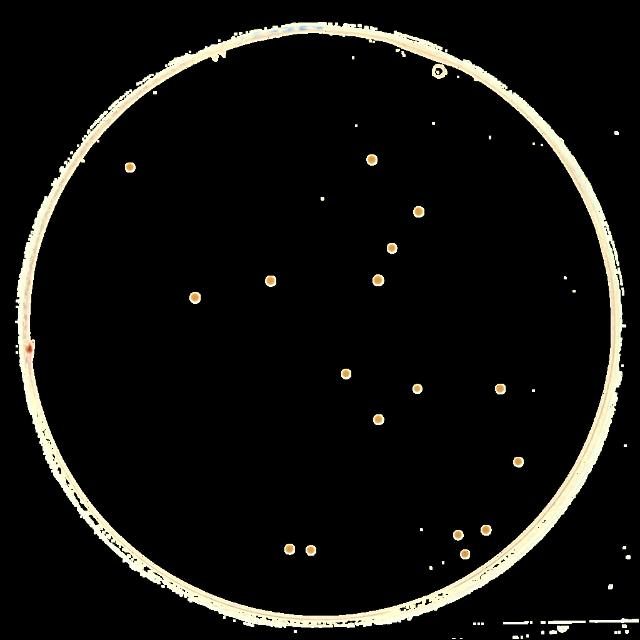colony: (282, 542, 296, 556), (373, 274, 385, 290), (408, 382, 422, 394), (494, 384, 508, 396), (264, 274, 276, 286), (366, 154, 378, 166), (304, 545, 316, 557), (414, 205, 424, 219), (374, 411, 384, 425), (125, 162, 135, 174), (190, 291, 200, 303), (512, 457, 524, 467), (388, 242, 397, 255), (342, 368, 350, 380), (482, 526, 491, 536), (456, 529, 464, 539), (461, 548, 469, 556)
